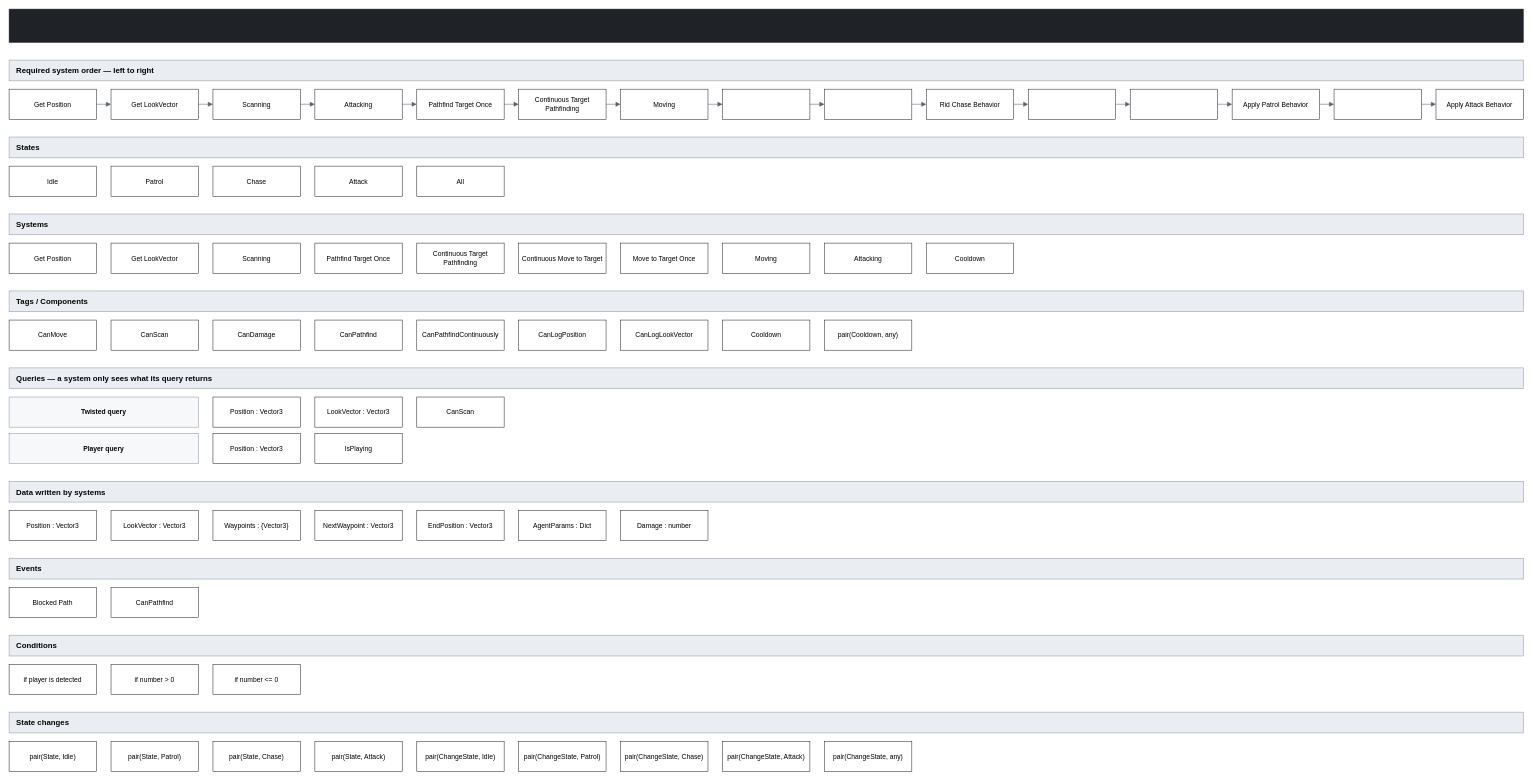
Image size: 1532x781. Some labels were removed from this diagram. Here are the shapes that lost their labels. From the top down, the centre of each, then its label:
pixel 766 25: Tarnished NPC — ECS architecture
pixel 766 104: Rid Idle Behavior
pixel 868 104: Rid Patrol Behavior
pixel 1072 104: Rid Attack Behavior
pixel 1174 104: Apply Idle Behavior
pixel 1377 104: Apply Chase Behavior
